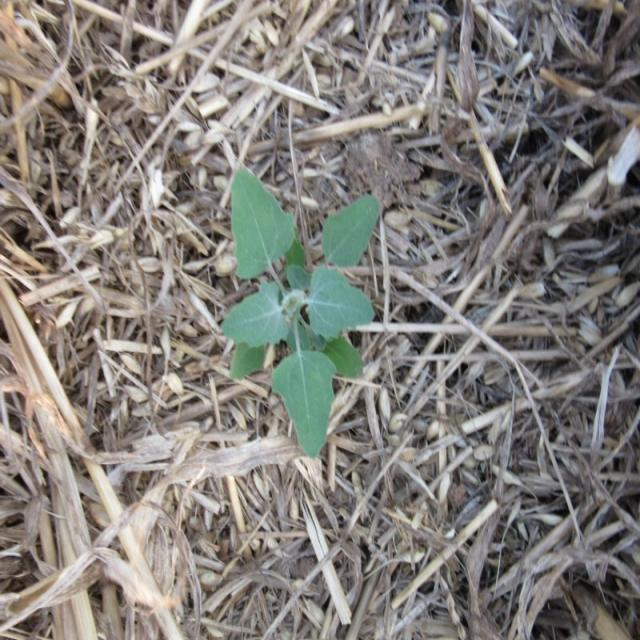ca: (222, 166, 380, 453)
